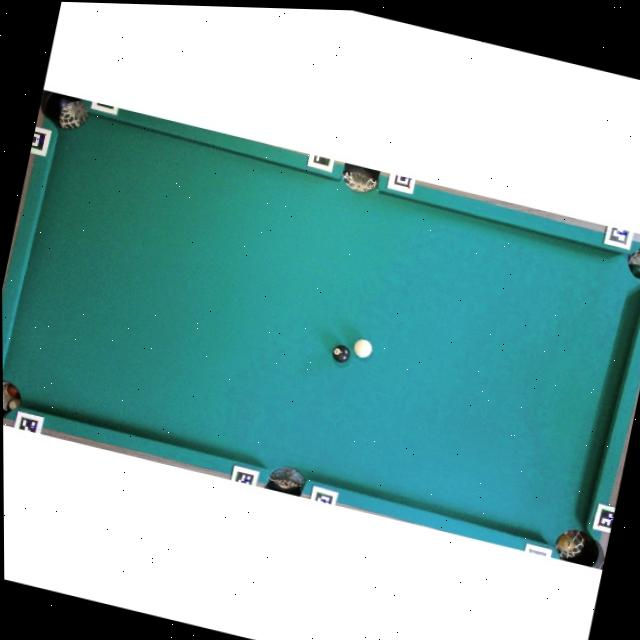cue ball: (351, 337, 373, 359)
other: (330, 343, 351, 364)
